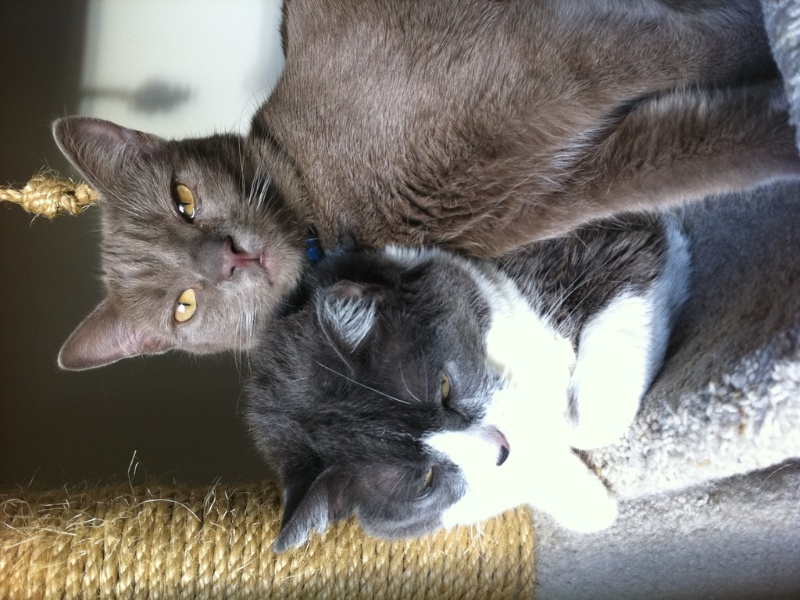cat: (41, 4, 787, 376), (246, 253, 699, 555)
